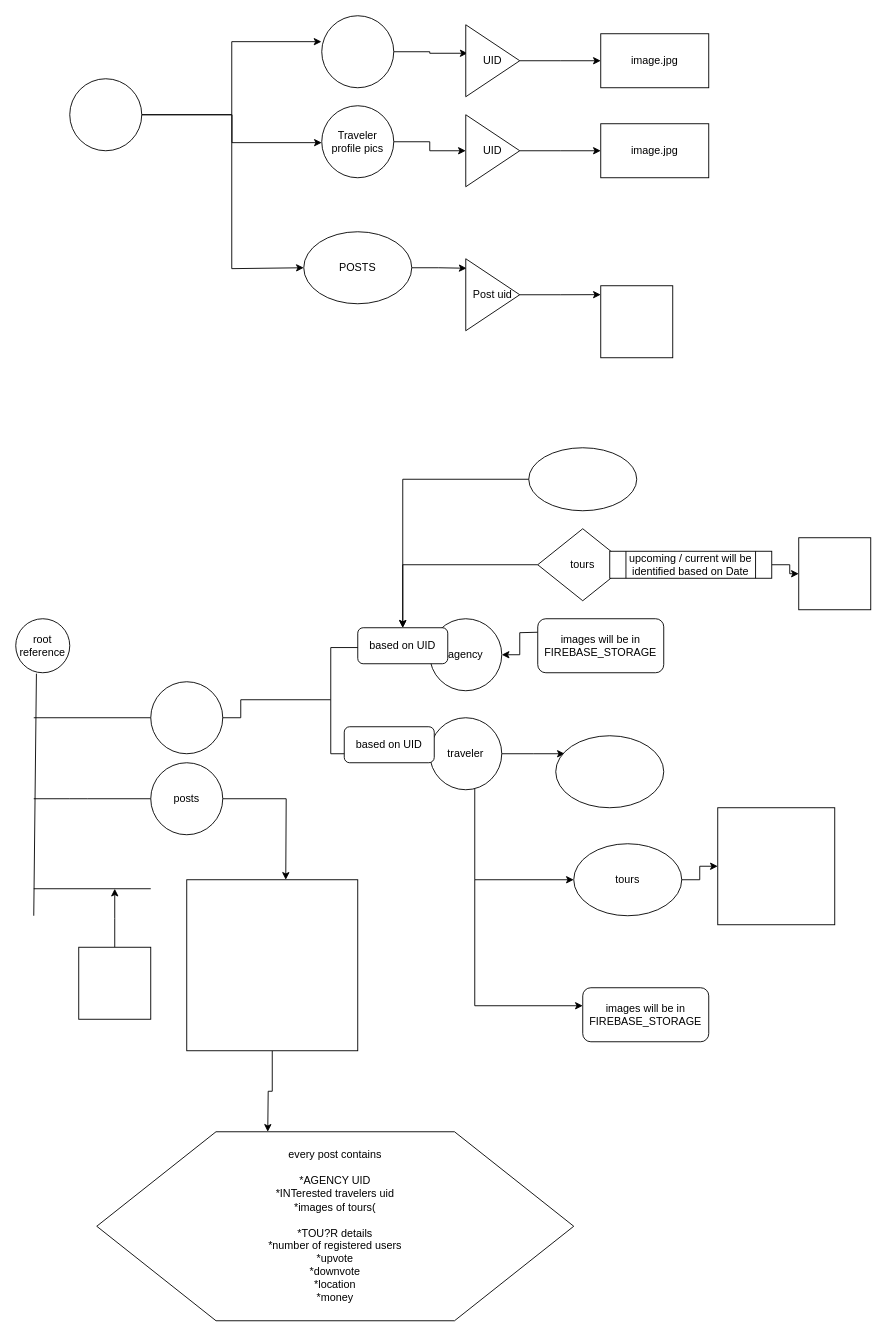
Image size: 887x1337. Some labels were removed from this diagram. Here are the shapes that lost their labels. From the top down, the box of each, then its label:
(321, 15, 394, 88): Agency profile pics
(69, 78, 142, 151): STORAGE
(600, 285, 673, 358): "images" folder
(528, 447, 637, 511): Profile Data : Name, email,number
(798, 537, 871, 610): 'UID' of ToursPost done by this Agency
(150, 681, 223, 754): user
(555, 735, 664, 808): porifle data ,number , name save
(717, 807, 835, 925): 'UID' of Tours attended done by this traveler
(78, 946, 151, 1019): temp data of agency/trav
(186, 879, 358, 1051): POst uid (generated by firebase)
